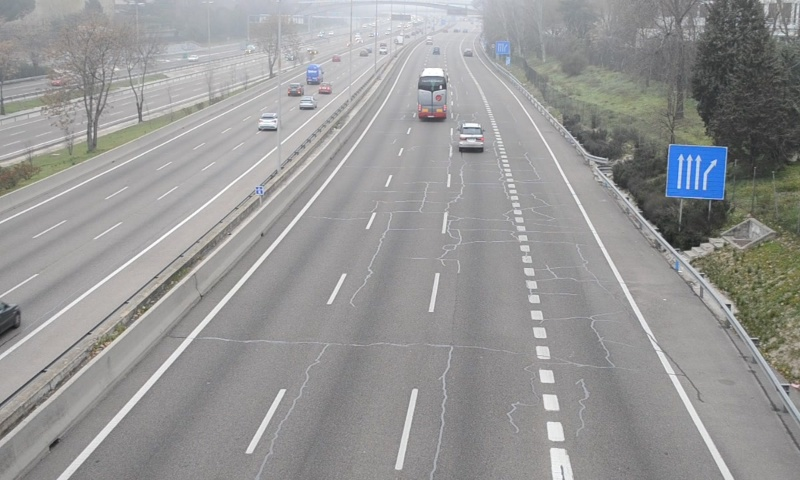bus: (417, 67, 448, 122)
car: (458, 123, 485, 151)
